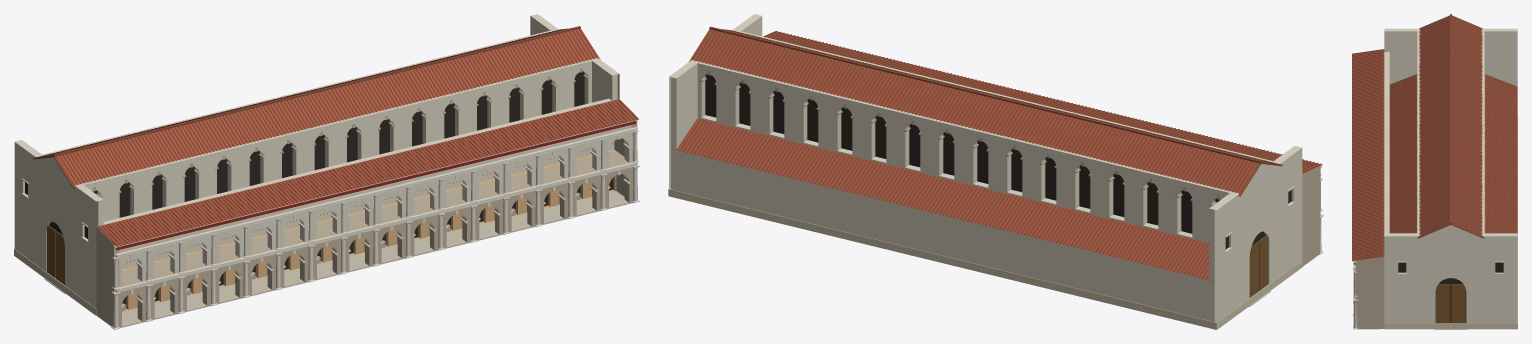
File: rome_basilica_aemilia.glb
The picture shows the model from 3 angles, left to right: view 1: azimuth 30°, elevation 25°; view 2: azimuth 150°, elevation 25°; view 3: azimuth 270°, elevation 25°; orthographic projection. The views are drawn at different scales.
Parts seen in each view (by area): view 1: rome_basilica_aemilia; view 2: rome_basilica_aemilia; view 3: rome_basilica_aemilia.
Boxes of the visible parts, <box> form: rome_basilica_aemilia: <box>14,14,639,329</box>; rome_basilica_aemilia: <box>668,14,1323,329</box>; rome_basilica_aemilia: <box>1352,14,1517,329</box>.
Size of the model in its own units: 96.6 by 23.2 by 32.39.
